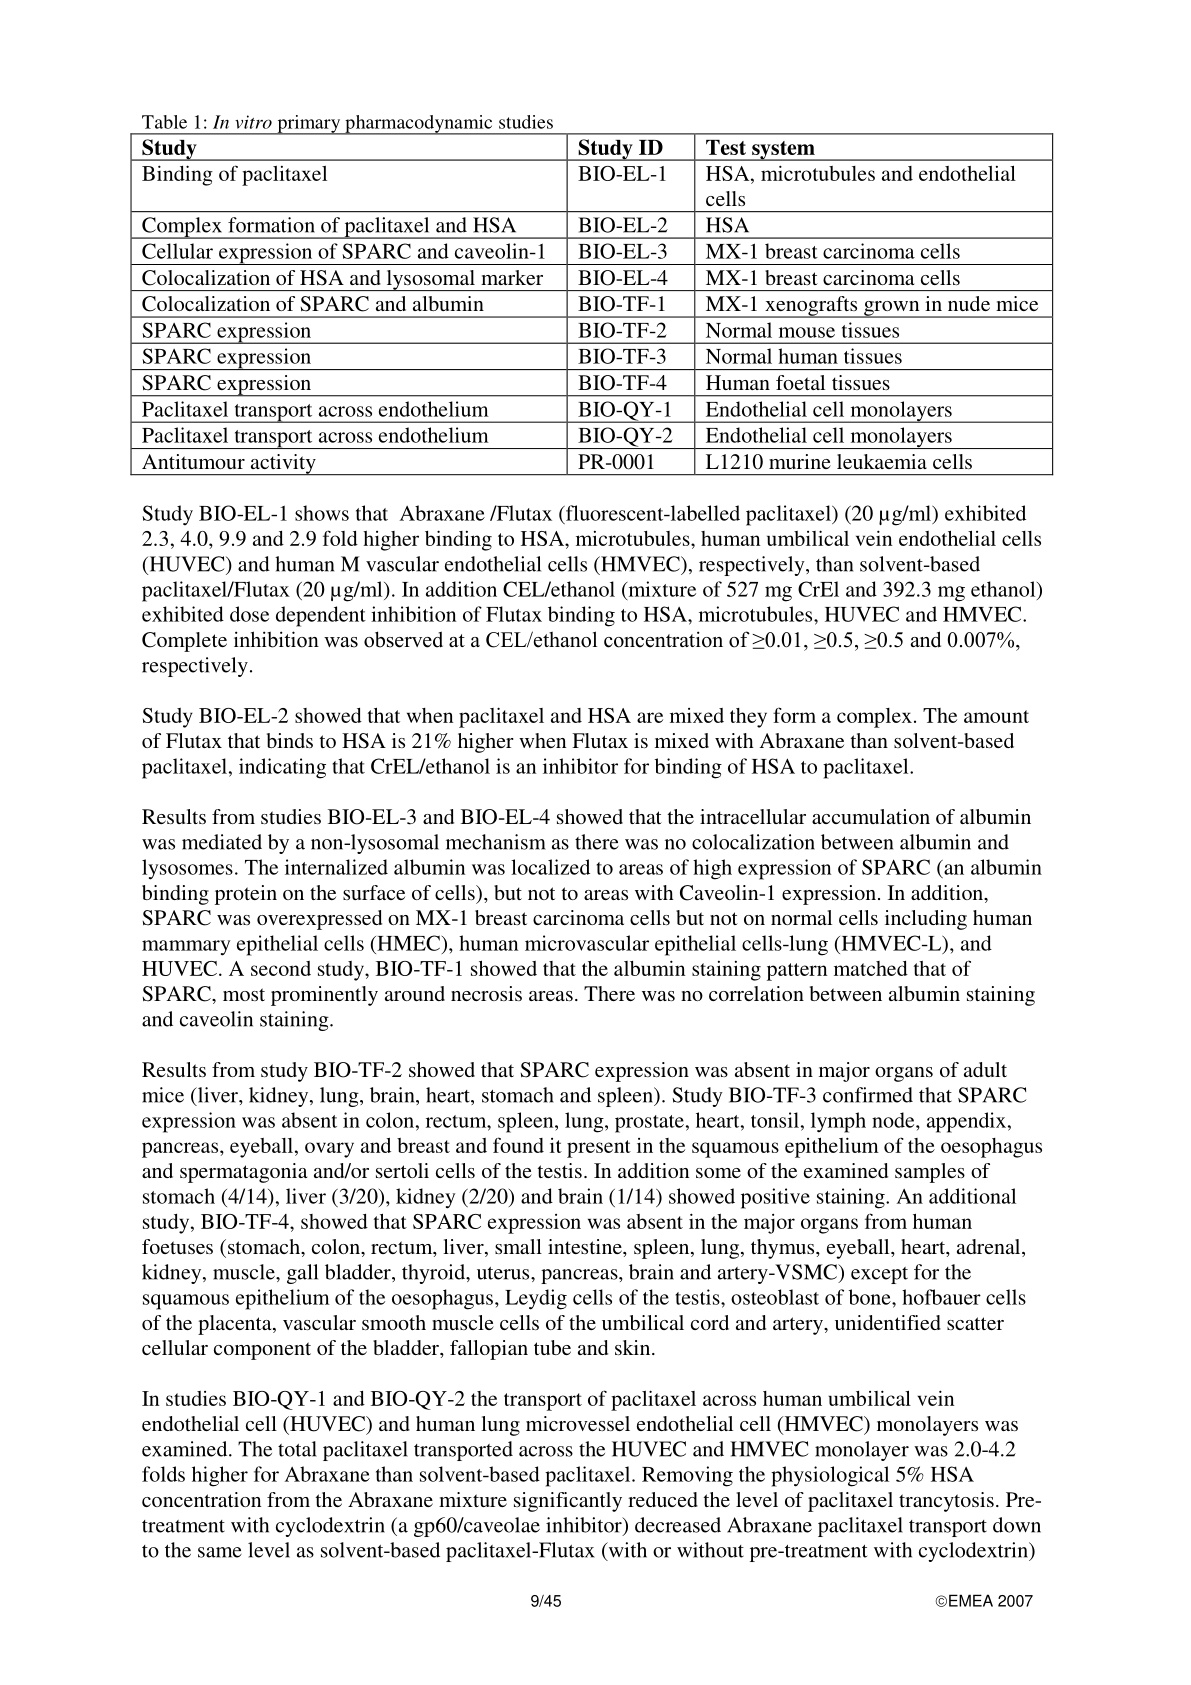full_lined: (128, 133, 1054, 476)
